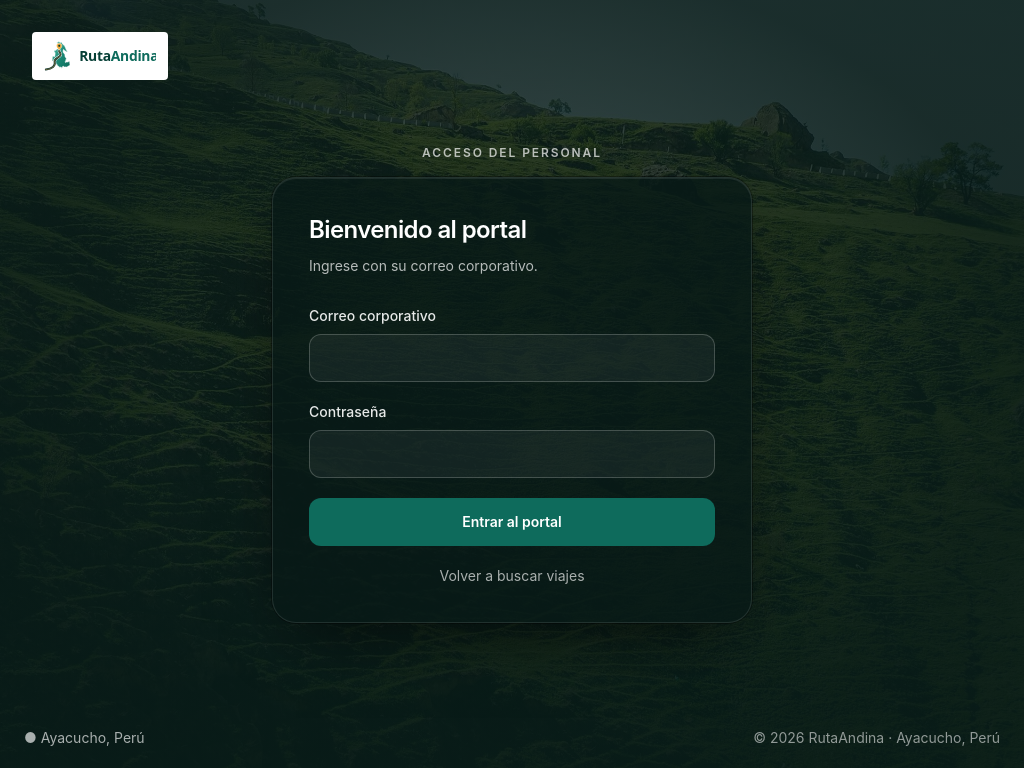
Test: authentication forms › shows API errors accessibly
The width and height of the screenshot is (1024, 768).
Type "agent@example.test" into the field labelled "Correo corporativo" at (512, 358), box x1=309 y1=334 x2=715 y2=382
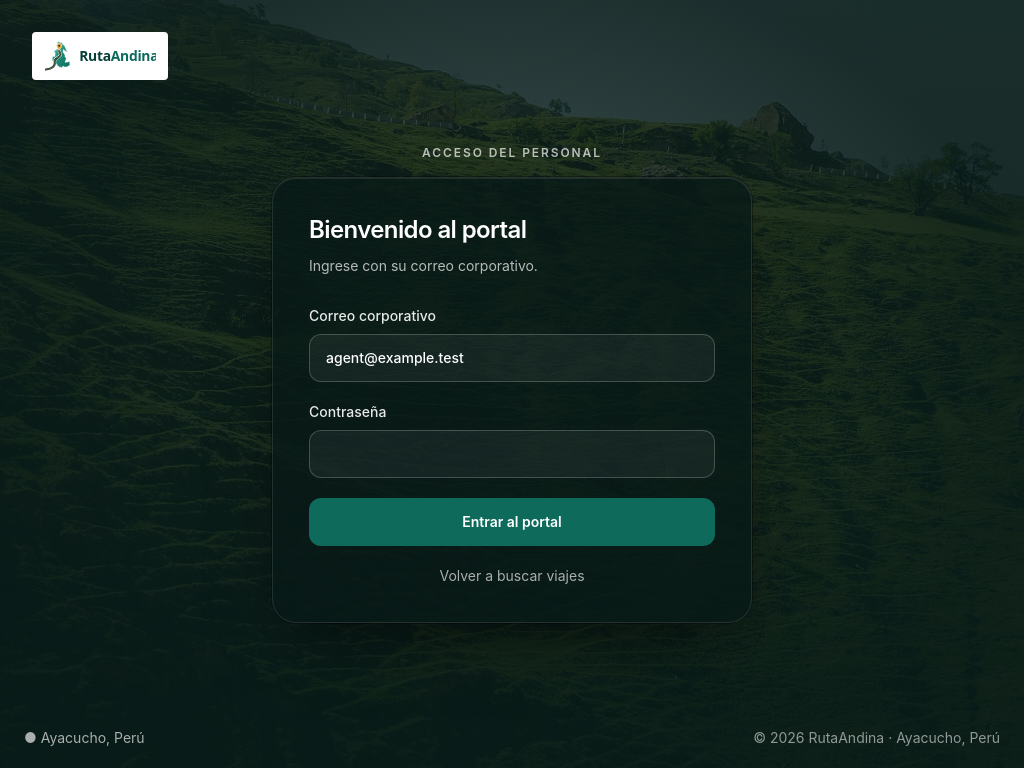
Type "password123" into the password field labelled "Contraseña" at (512, 454), box x1=309 y1=430 x2=715 y2=478
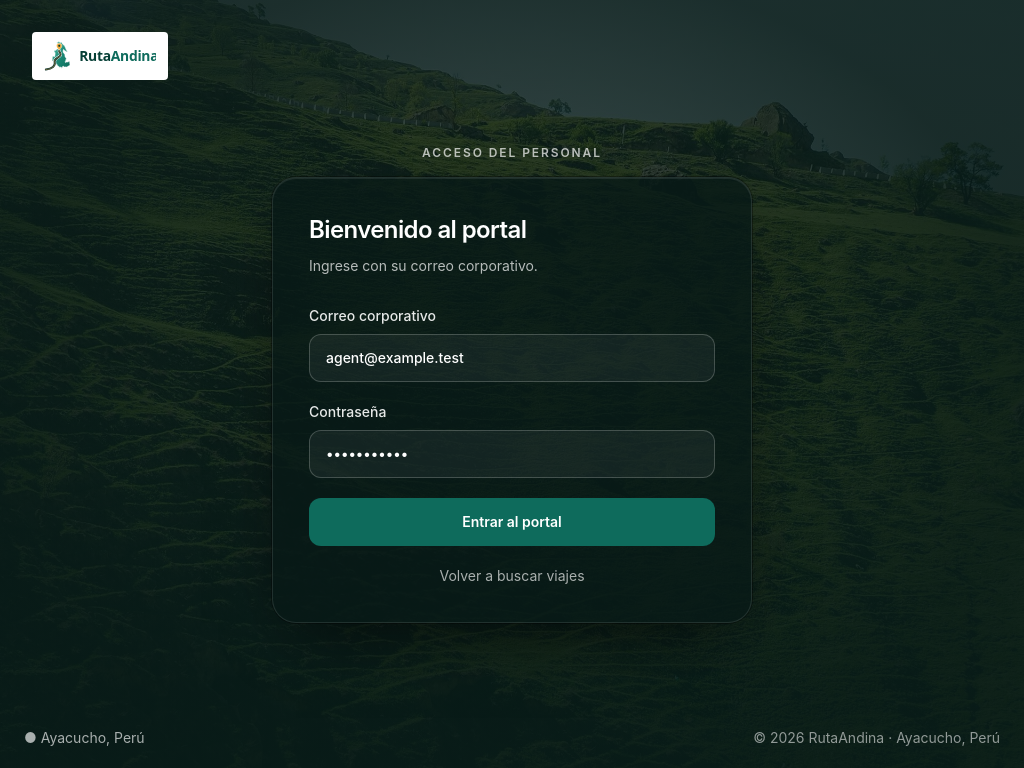
Click the button "Entrar al portal" at (512, 522), box x1=309 y1=498 x2=715 y2=546
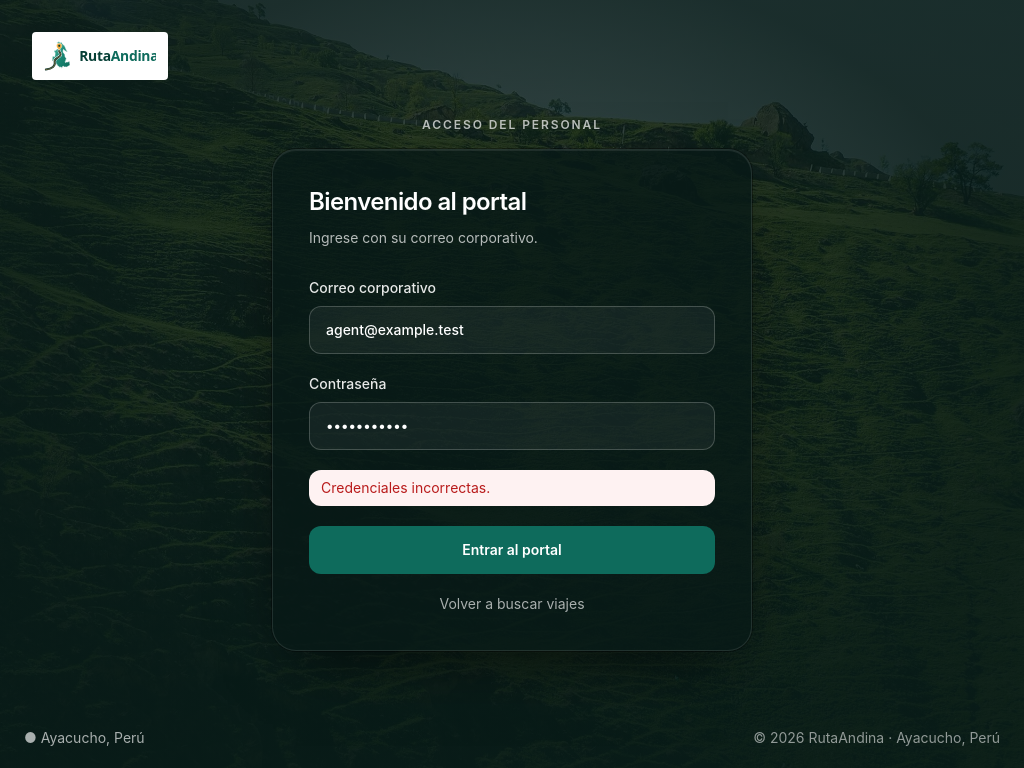
Expected: the message reads "Credenciales incorrectas.", x1=321 y1=479 x2=490 y2=496
